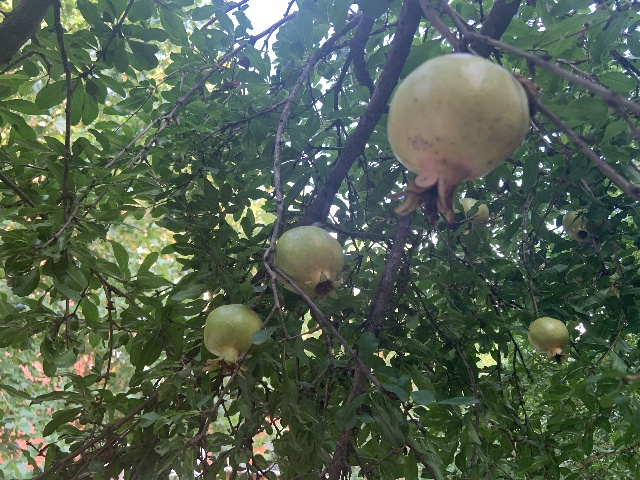mid-growth: (386, 53, 530, 227), (273, 225, 344, 304), (202, 303, 263, 379), (527, 317, 571, 361), (562, 208, 602, 245), (452, 197, 489, 235)
